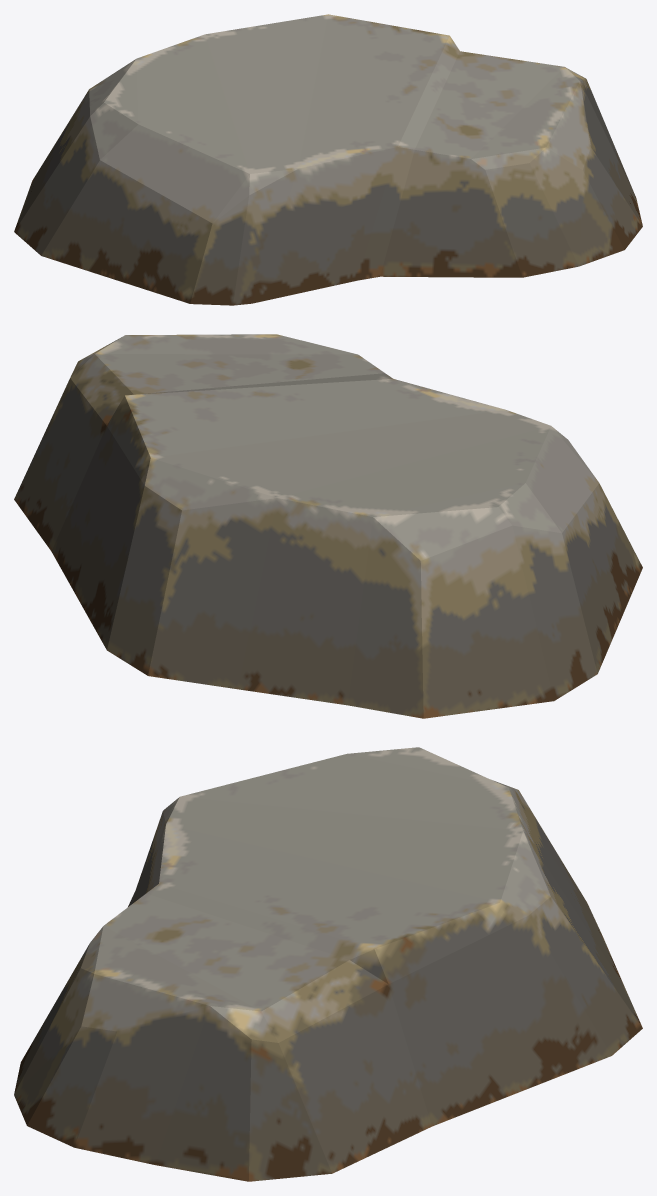
The model's file is Pebble_Round_5__go_coast.glb.
3 views of the same model, one above another, from view 1: azimuth 30°, elevation 25°; view 2: azimuth 150°, elevation 25°; view 3: azimuth 270°, elevation 25° (orthographic). The views are drawn at different scales.
Visible parts, largest first — view 1: Pebble_Round_5; view 2: Pebble_Round_5; view 3: Pebble_Round_5.
Part boxes in pixels (x1,y1,x2,y2): Pebble_Round_5: (14,14,642,305); Pebble_Round_5: (14,334,642,718); Pebble_Round_5: (14,747,642,1181).
Bounding box in the file's own units: 0.4186 × 0.1008 × 0.3463.
Materials: 1 (1 with a texture image).
